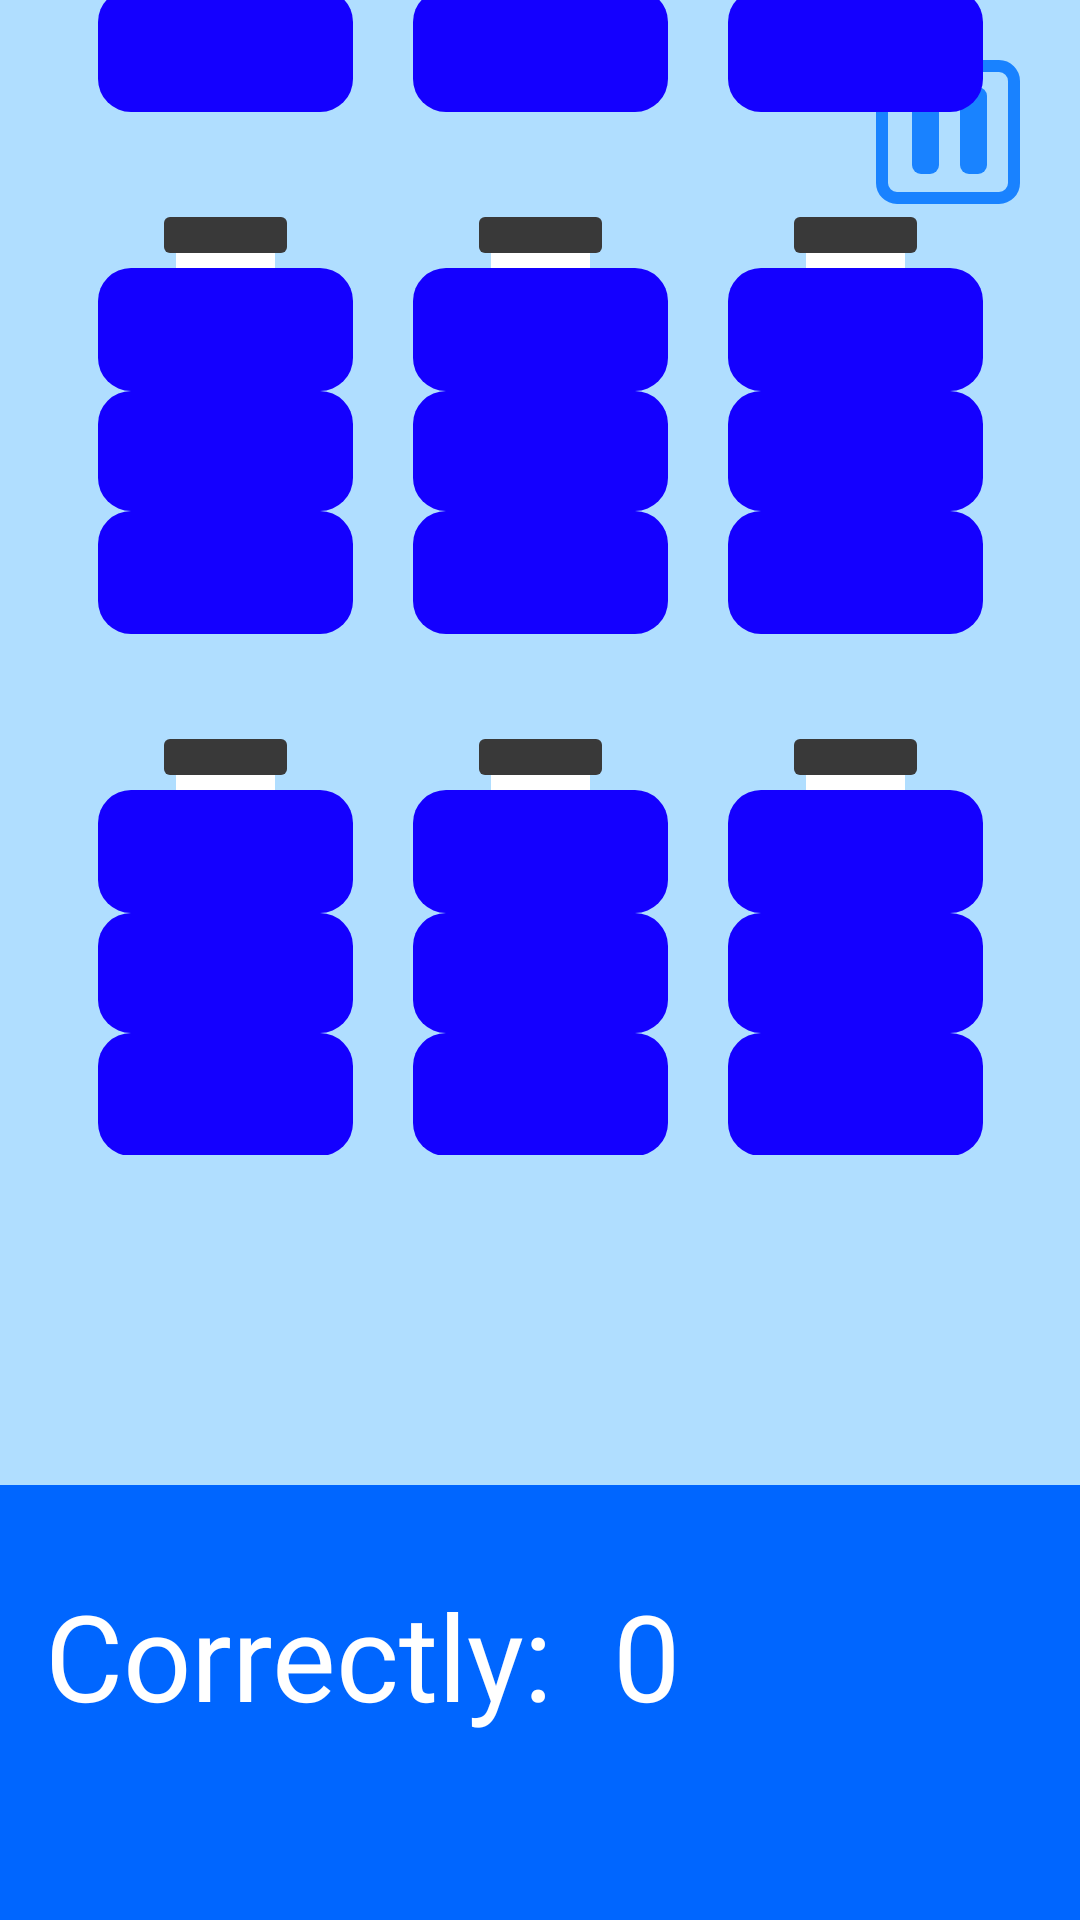

Locate icon controls on the screen. Image size 1080px x 1920px, boxes as [x1, y1, x2, y2].
pause: [876, 60, 1020, 204]
